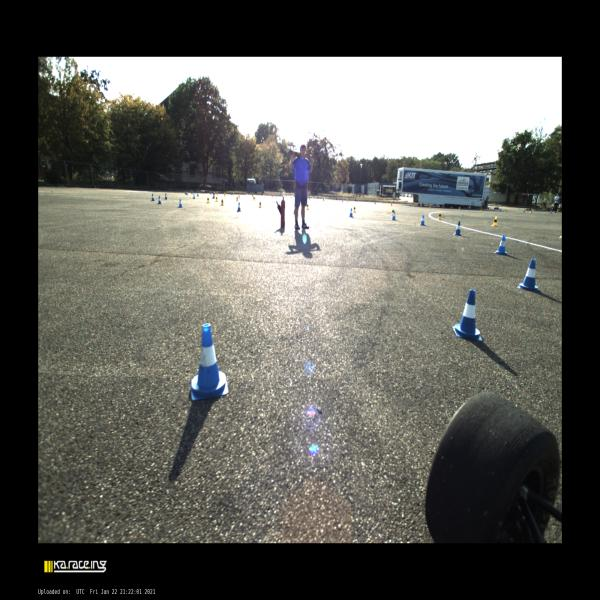blue_cone: (191, 324, 228, 400), (453, 290, 482, 342), (517, 259, 538, 292), (494, 235, 509, 255), (453, 221, 462, 235), (419, 214, 426, 225), (179, 198, 184, 208), (349, 208, 354, 217), (237, 202, 241, 212), (157, 196, 162, 204), (392, 211, 396, 220), (151, 194, 155, 201), (164, 193, 168, 199), (193, 194, 196, 199), (212, 194, 215, 199), (500, 208, 502, 212), (442, 205, 444, 209), (469, 206, 471, 210), (410, 202, 412, 206), (197, 192, 199, 196), (523, 209, 525, 212), (375, 201, 376, 205)
yellow_cone: (492, 216, 498, 226), (437, 212, 442, 220), (220, 198, 224, 206), (353, 205, 357, 213), (258, 201, 262, 208), (206, 197, 210, 203), (215, 196, 218, 202), (307, 203, 309, 210), (458, 206, 461, 210), (530, 209, 532, 214), (480, 207, 482, 212), (236, 196, 238, 201), (238, 194, 240, 199), (346, 200, 349, 203), (505, 208, 507, 212), (390, 202, 392, 206), (224, 193, 226, 197), (254, 196, 256, 200), (429, 205, 431, 208), (216, 192, 218, 195), (556, 211, 558, 214), (253, 196, 254, 200), (233, 192, 234, 195)
